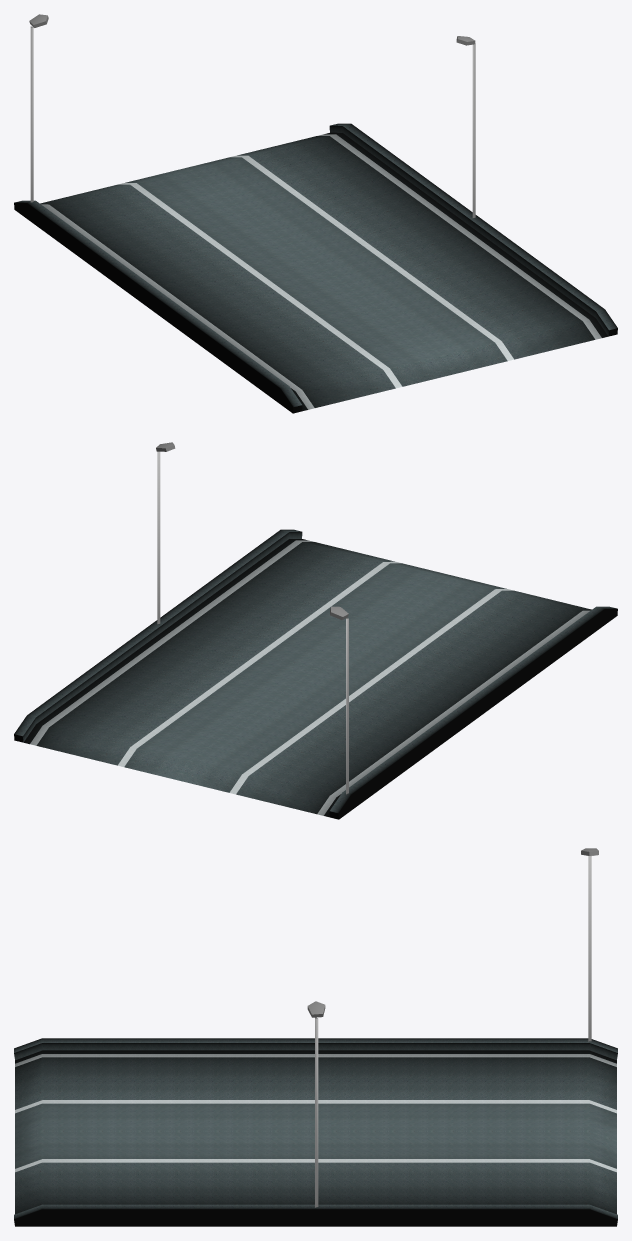
File: K_KOKUDO50.glb
3 renders of one model, top to bottom at view 1: azimuth 30°, elevation 25°; view 2: azimuth 150°, elevation 25°; view 3: azimuth 270°, elevation 25°, orthographic. The views are drawn at different scales.
Visible parts, largest first — view 1: obj3, obj1, obj2; view 2: obj3, obj2, obj1; view 3: obj3, obj2, obj1.
Part boxes in pixels (bbox=[...]): obj3: bbox=[14, 123, 617, 413]; obj1: bbox=[29, 14, 48, 202]; obj2: bbox=[456, 36, 475, 217]; obj3: bbox=[14, 529, 617, 819]; obj2: bbox=[156, 442, 175, 624]; obj1: bbox=[330, 606, 348, 794]; obj3: bbox=[14, 1038, 617, 1226]; obj2: bbox=[307, 1001, 325, 1207]; obj1: bbox=[581, 848, 598, 1041].
Bounding box in the file's own units: 37 × 21.65 × 55.2.
6 materials, 4 textured.
